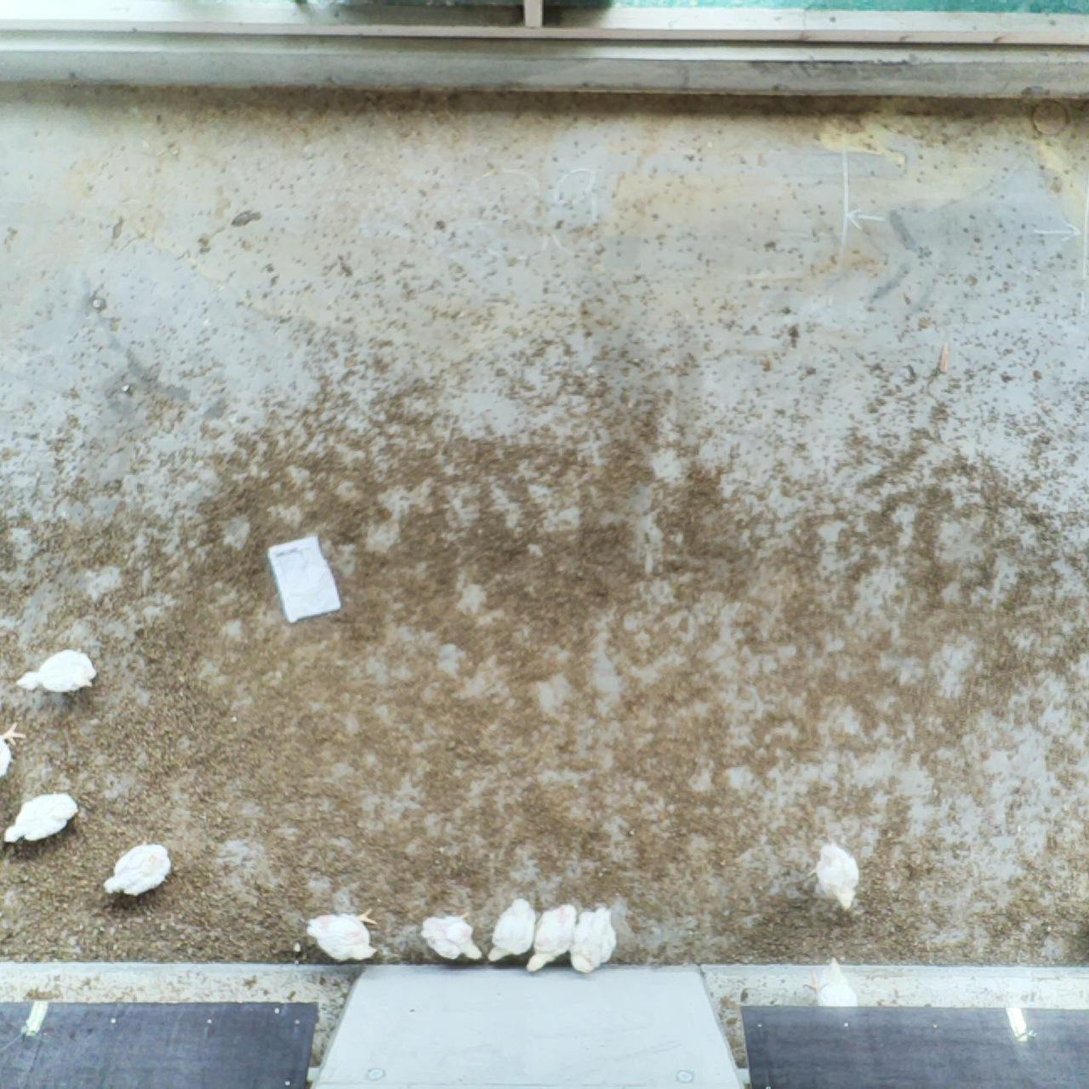chicken: (0, 786, 83, 853), (303, 900, 381, 965), (15, 646, 100, 700), (523, 900, 580, 976), (100, 841, 176, 897), (806, 841, 862, 914), (418, 908, 485, 965), (485, 896, 539, 965), (568, 902, 618, 976), (0, 717, 28, 779)
